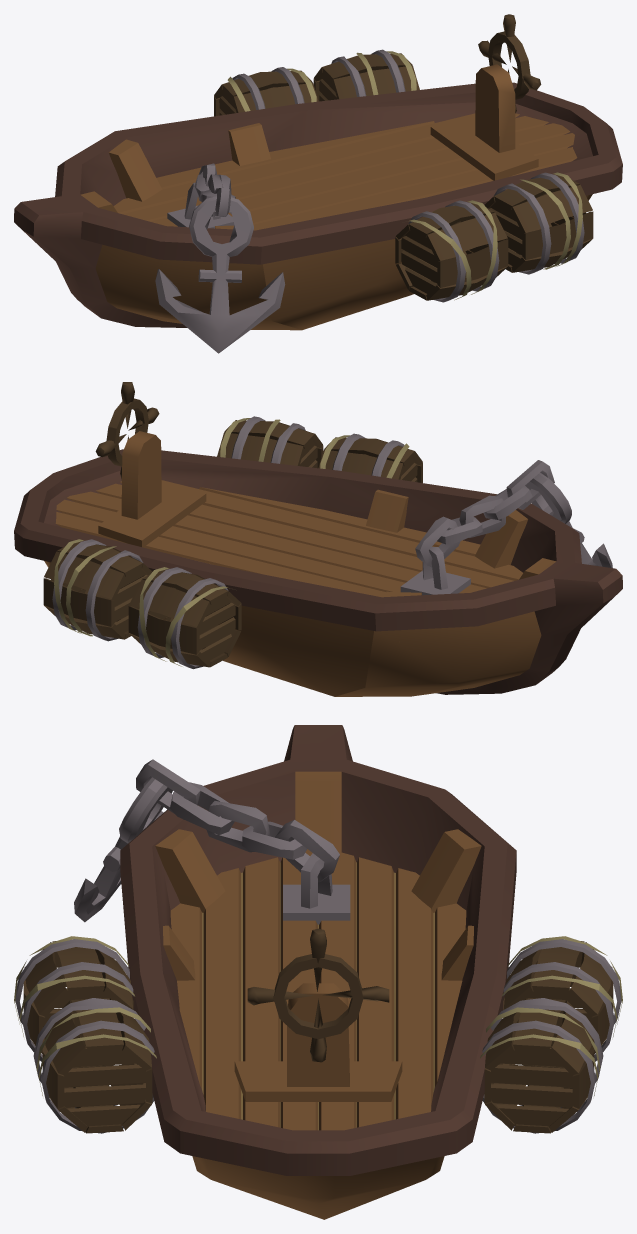
The model's file is ship-small.glb.
3 renders of one model, top to bottom at view 1: azimuth 30°, elevation 25°; view 2: azimuth 150°, elevation 25°; view 3: azimuth 270°, elevation 25°, orthographic. The views are drawn at different scales.
Parts seen in each view (by area): view 1: Ship_Small; view 2: Ship_Small; view 3: Ship_Small.
Boxes of the visible parts, left/top/right/bottom form: Ship_Small: left=14, top=14, right=622, bottom=353; Ship_Small: left=14, top=382, right=622, bottom=696; Ship_Small: left=14, top=725, right=622, bottom=1219.
Size of the model in its own units: 5.14 by 1.98 by 3.6.
